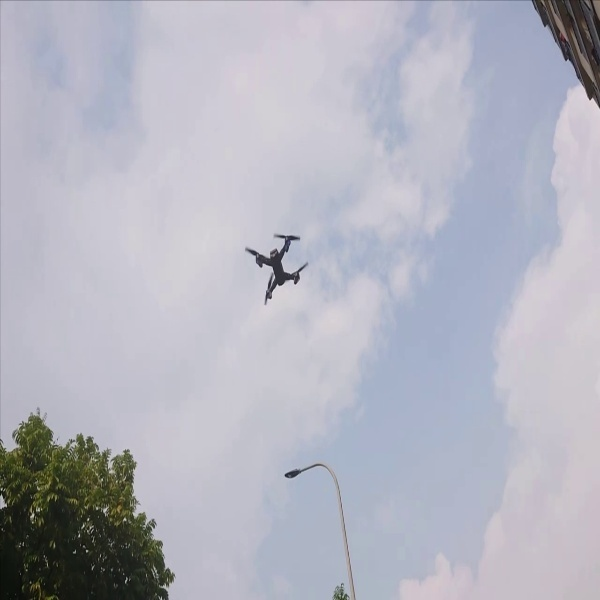drone: (237, 223, 319, 307)
